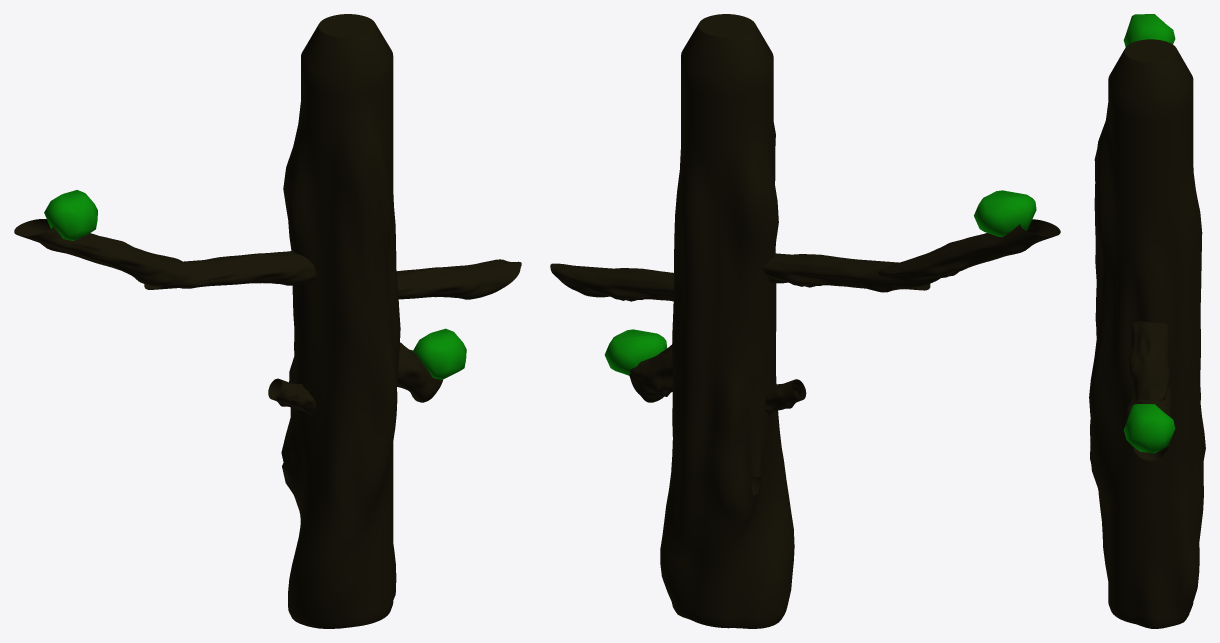
File: Dried tree.fbx
3 views of the same model, side by side, from view 1: azimuth 30°, elevation 25°; view 2: azimuth 150°, elevation 25°; view 3: azimuth 270°, elevation 25° (orthographic). The views are drawn at different scales.
Parts seen in each view (by area): view 1: Box004; view 2: Box004; view 3: Box004.
Part boxes in pixels (bbox=[...]): Box004: bbox=[14, 14, 521, 628]; Box004: bbox=[550, 14, 1060, 628]; Box004: bbox=[1089, 14, 1205, 628].
Bounding box in the file's own units: 70.29 × 77.59 × 14.73.
